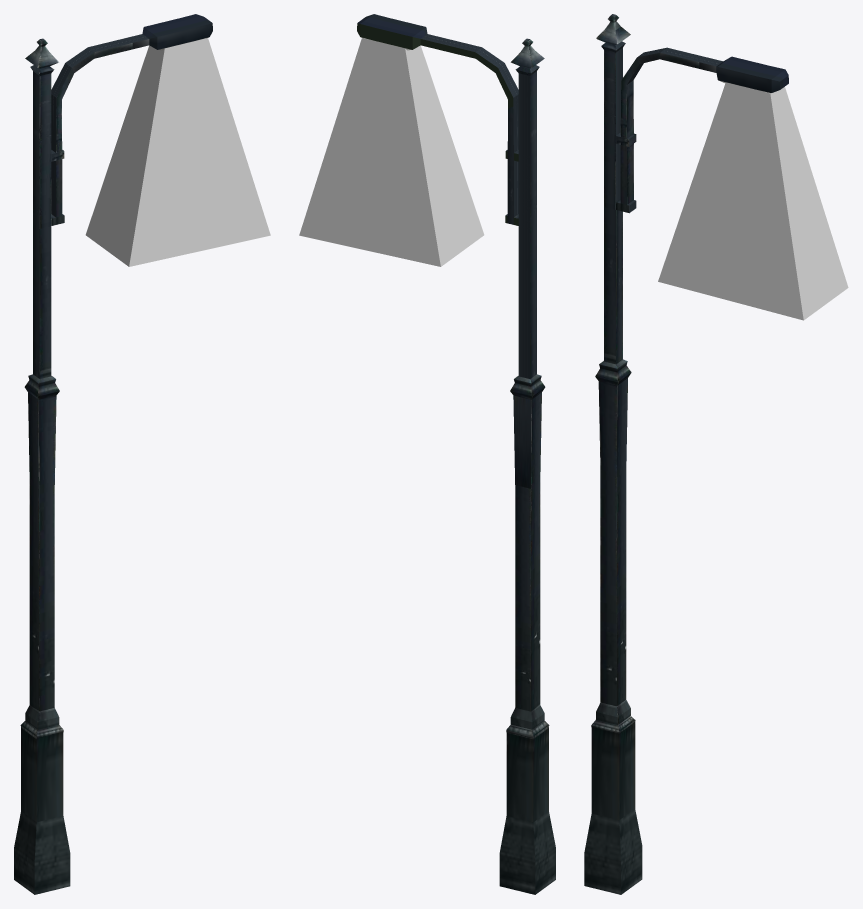
Rendered from lamp_post.fbx.
The picture shows the model from 3 angles, left to right: view 1: azimuth 30°, elevation 25°; view 2: azimuth 150°, elevation 25°; view 3: azimuth 330°, elevation 25°; orthographic projection. The views are drawn at different scales.
Parts seen in each view (by area): view 1: Cube; view 2: Cube; view 3: Cube.
Boxes of the visible parts, x1,y1,x2,y2 form: Cube: (14,14,270,894); Cube: (299,14,555,894); Cube: (584,14,848,894).
Size of the model in its own units: 111 by 400 by 37.4.
Materials: 3 (1 with a texture image).
